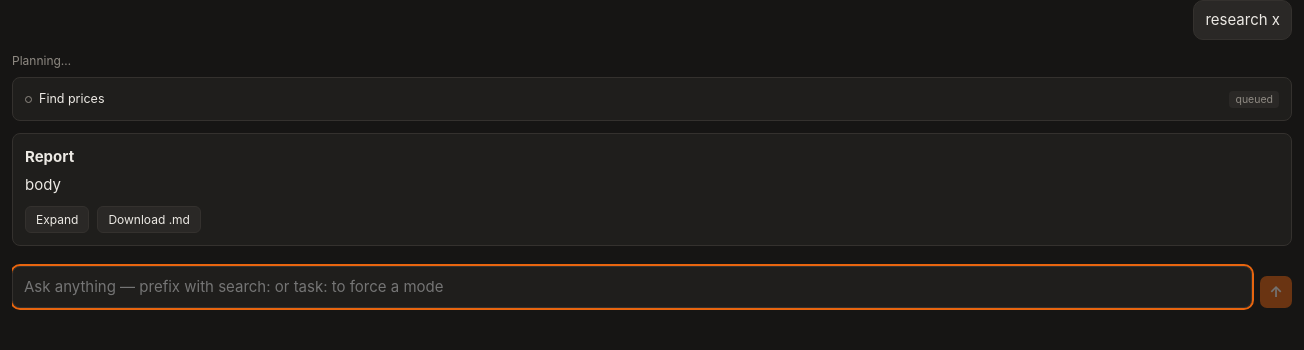
Test: Chat › duplicate round event is not duplicated
Click the text "Find prices".
click(65, 99)  # box [25, 90, 104, 108]
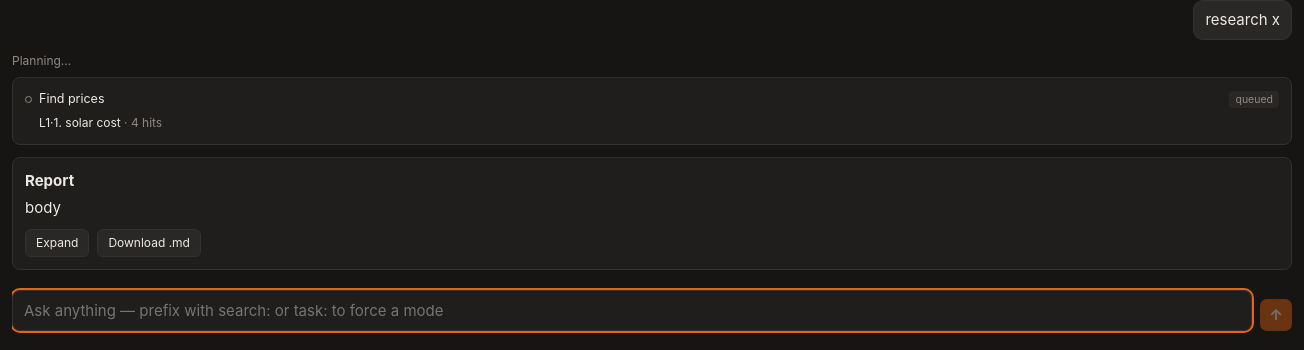
Result: the number of list items "L1·1. solar cost · 4 hits" is 1 at [39, 115, 162, 130]
